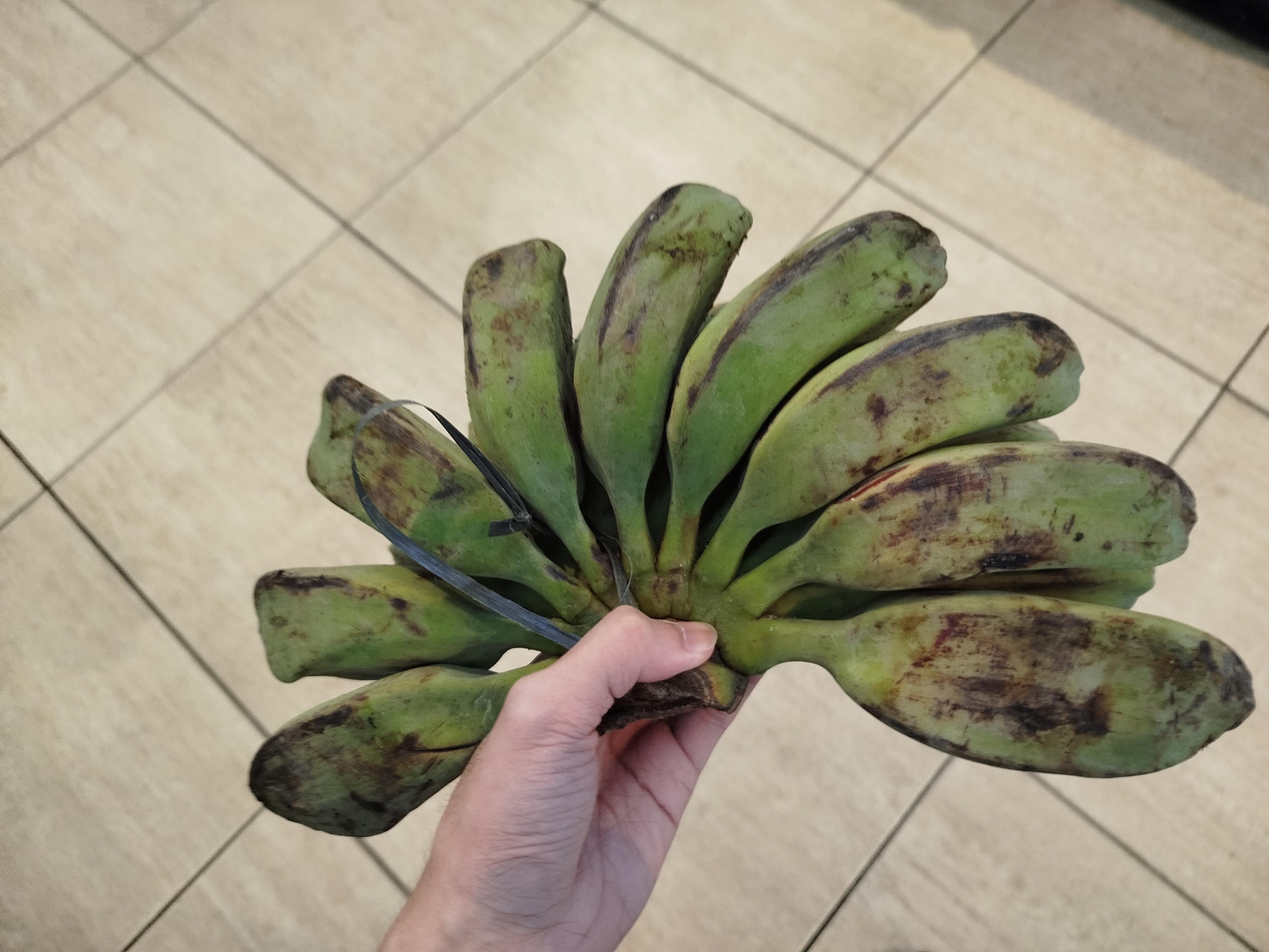underripe: (249, 183, 1254, 836)
